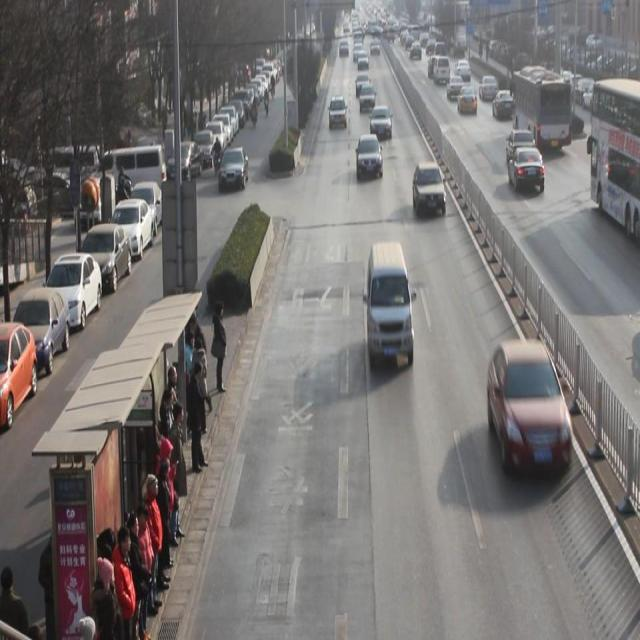car: (490, 339, 574, 478), (413, 160, 448, 219), (509, 147, 546, 194), (357, 133, 384, 182), (508, 129, 538, 167), (371, 105, 393, 143), (493, 90, 517, 121), (329, 96, 348, 130), (458, 85, 478, 114), (480, 75, 500, 103), (447, 75, 466, 103), (360, 85, 376, 113), (357, 74, 372, 99)
truck: (368, 242, 415, 367)
van: (588, 82, 640, 238), (512, 64, 569, 154)
